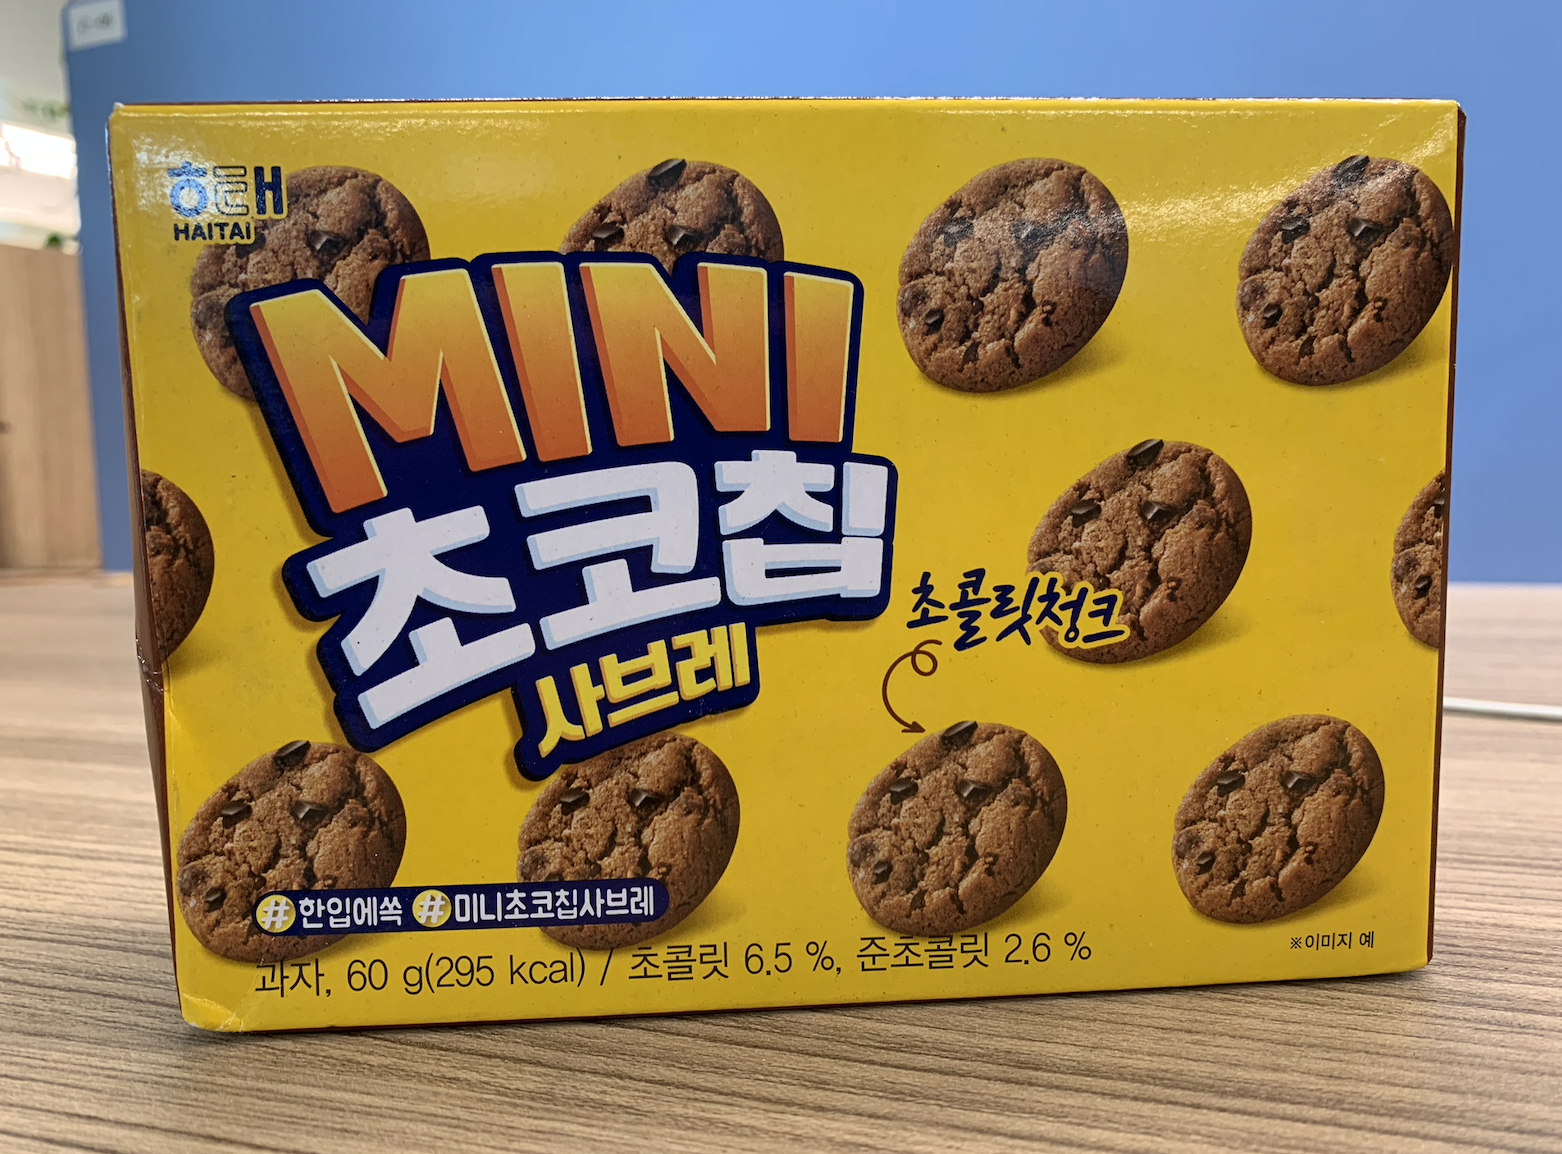cookies_50g: (135, 107, 1420, 990)
